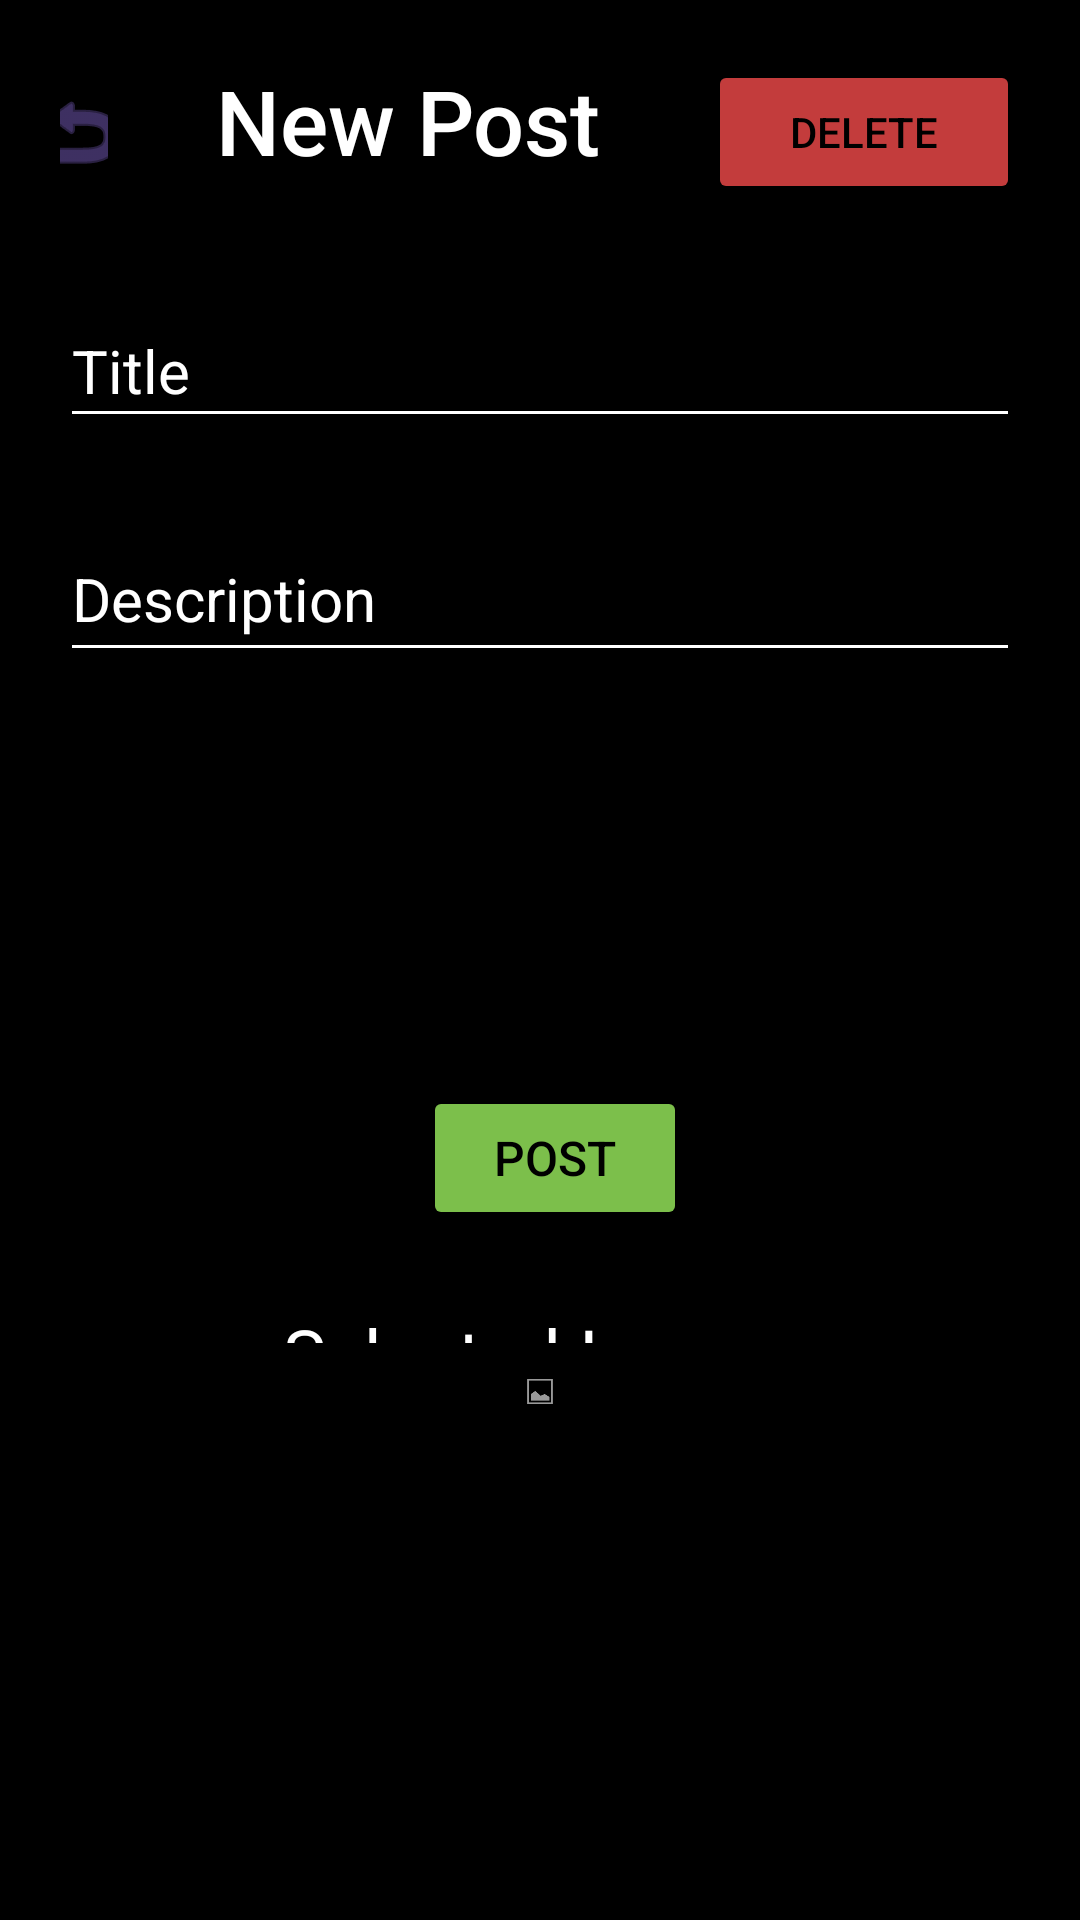

Locate icon controls on the screen. Image size 1080w x 1920h, boxes as [left=x1, top=y1, right=x2, bottom=y2].
gallery: [left=527, top=1379, right=553, bottom=1404]
revert: [left=60, top=102, right=108, bottom=164]
